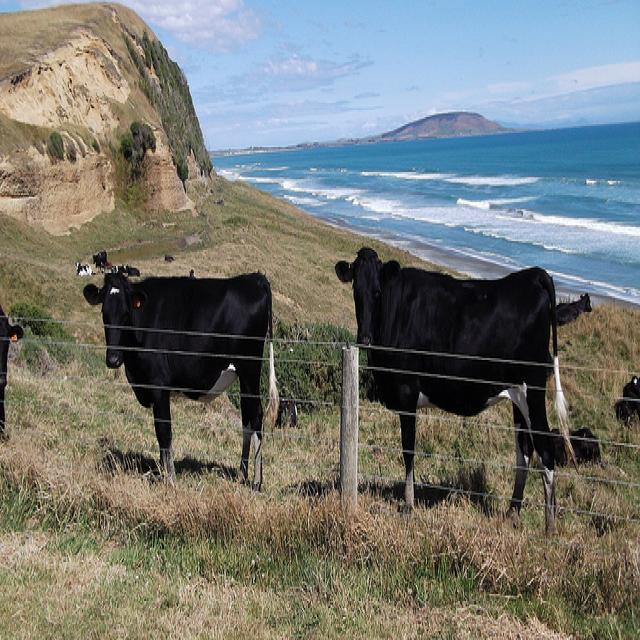cow: (333, 243, 580, 539), (82, 266, 276, 487), (0, 303, 23, 445), (550, 426, 602, 465), (613, 374, 639, 422), (555, 291, 591, 323), (109, 261, 138, 273), (91, 248, 106, 271), (73, 259, 92, 275)
